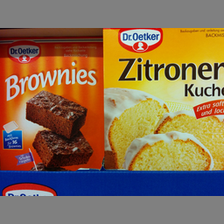cake: (101, 28, 224, 170), (1, 36, 104, 171)
